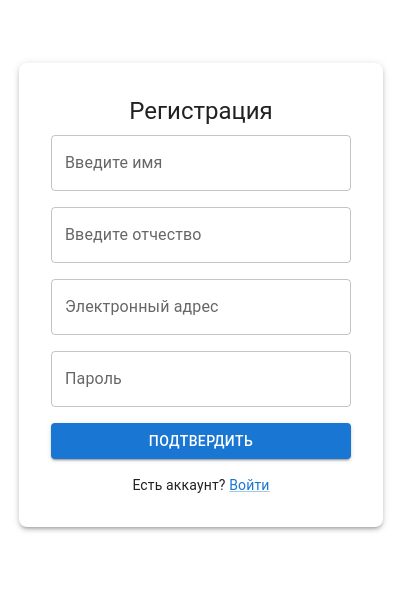
it: Auth (Registration) › shows validation errors for empty fields
The image size is (403, 595).
Step 1. Click the button "Подтвердить" → click(201, 441), box [51,423,351,459]
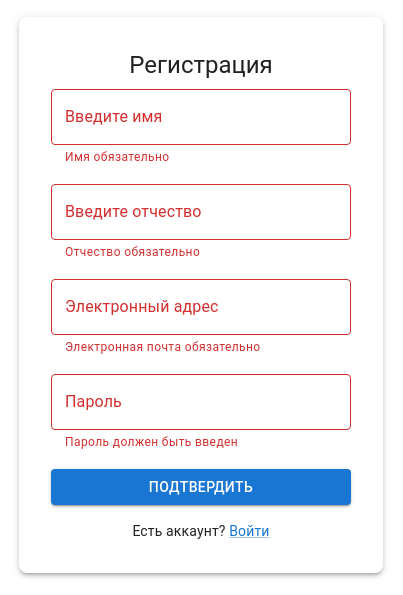
Now the text "Имя обязательно" is shown, box [65,150,170,164]
Now the text "Отчество обязательно" is shown, box [65,245,200,259]
Now the text "Электронная почта обязательно" is shown, box [65,340,261,354]
